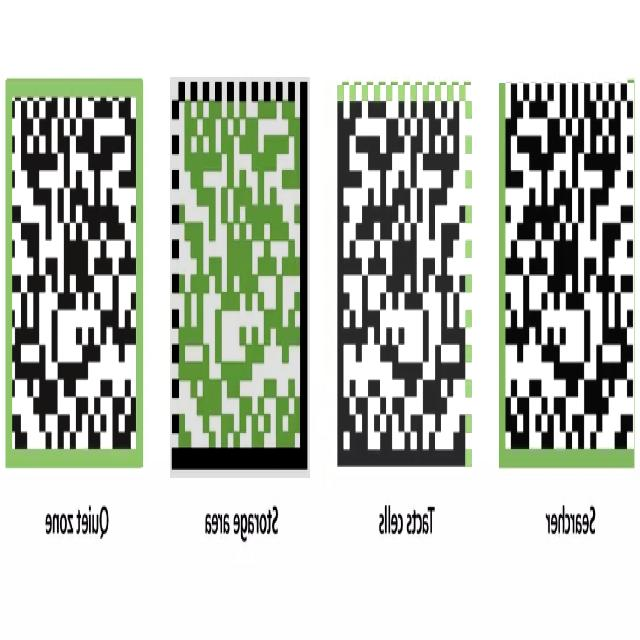DataMatrix: (3, 70, 144, 477), (170, 77, 310, 478), (334, 85, 474, 476), (499, 83, 634, 470)
